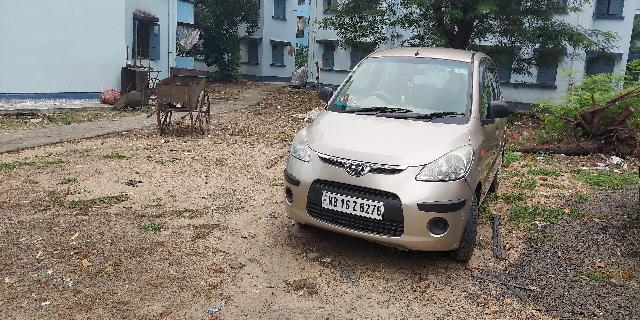Car: (280, 48, 514, 270)
